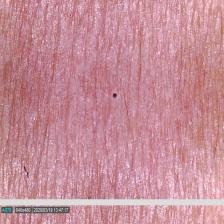Normal: (0, 0, 224, 193)
